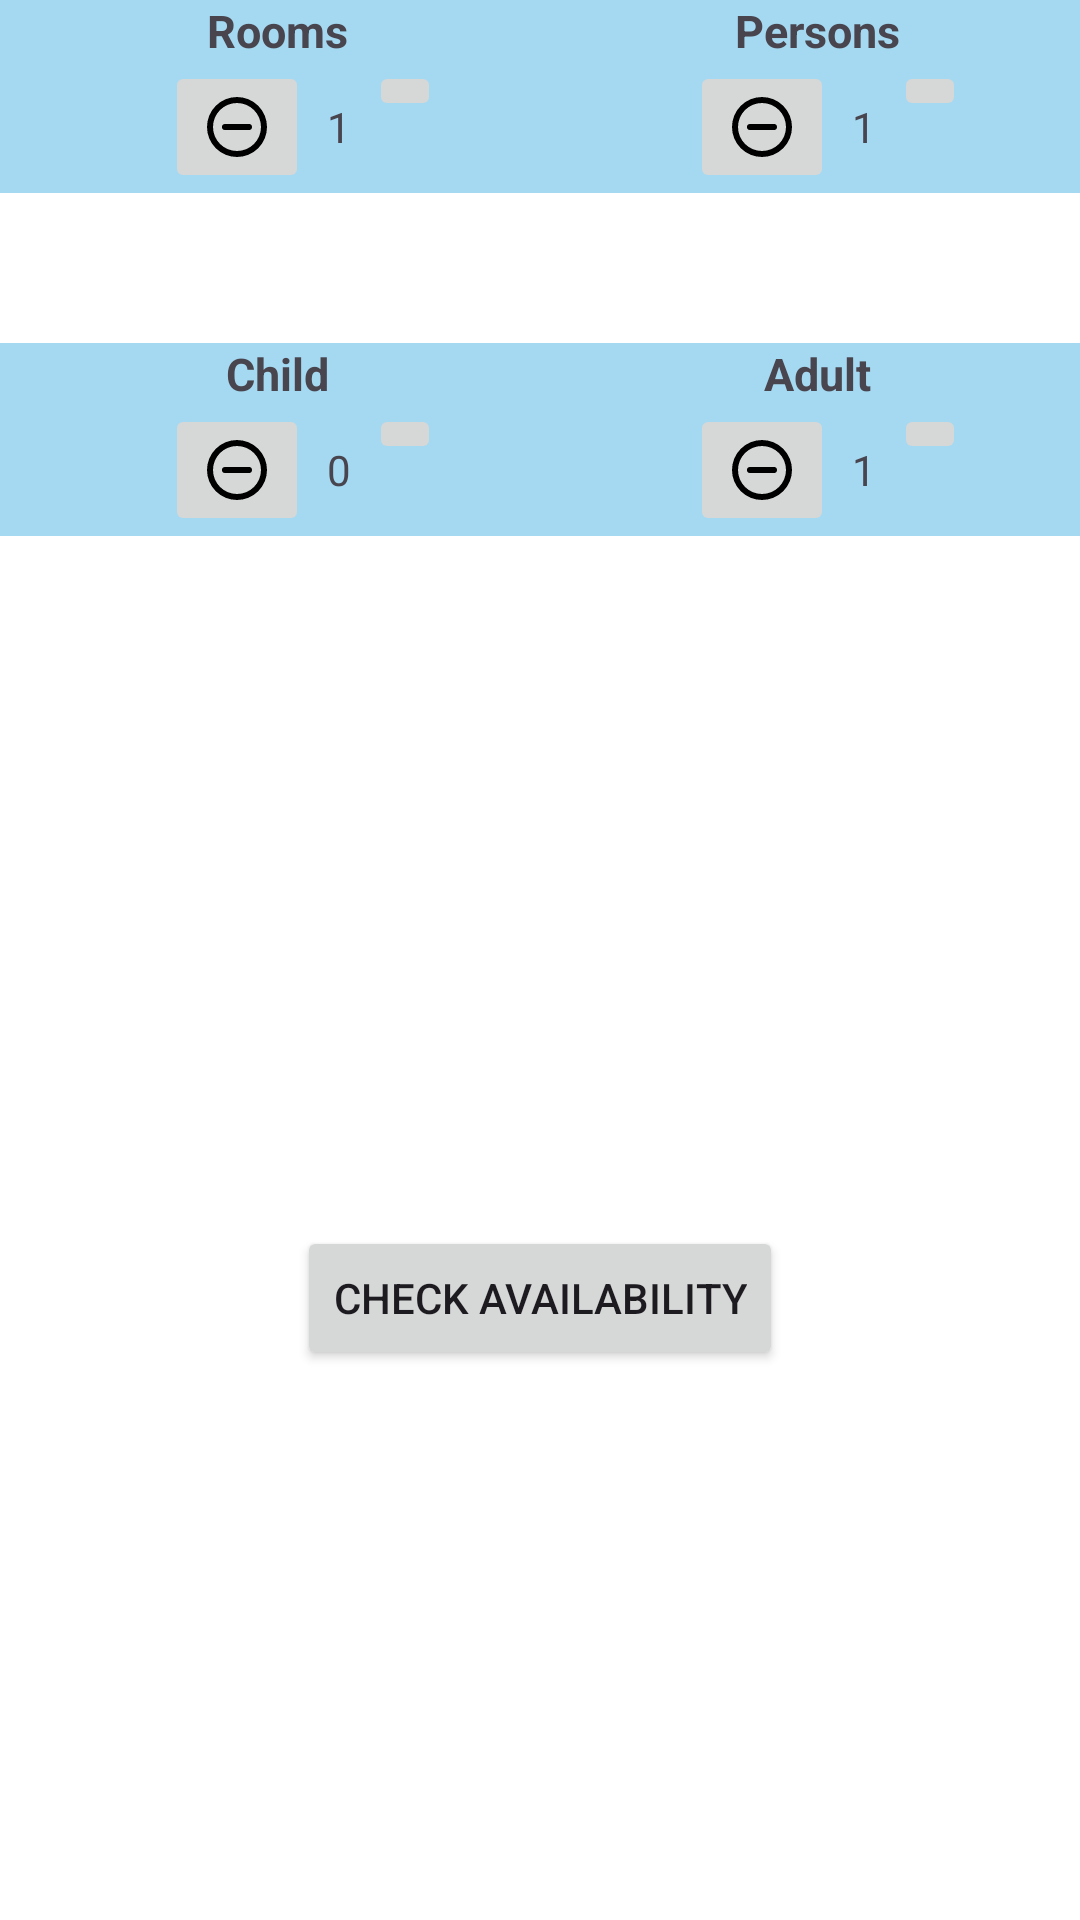

Screen size 1080w x 1920h. Icon name, then its center in pixels as (x=x, y=y):
minus: (x=237, y=127), (x=762, y=127), (x=237, y=470), (x=762, y=470)
